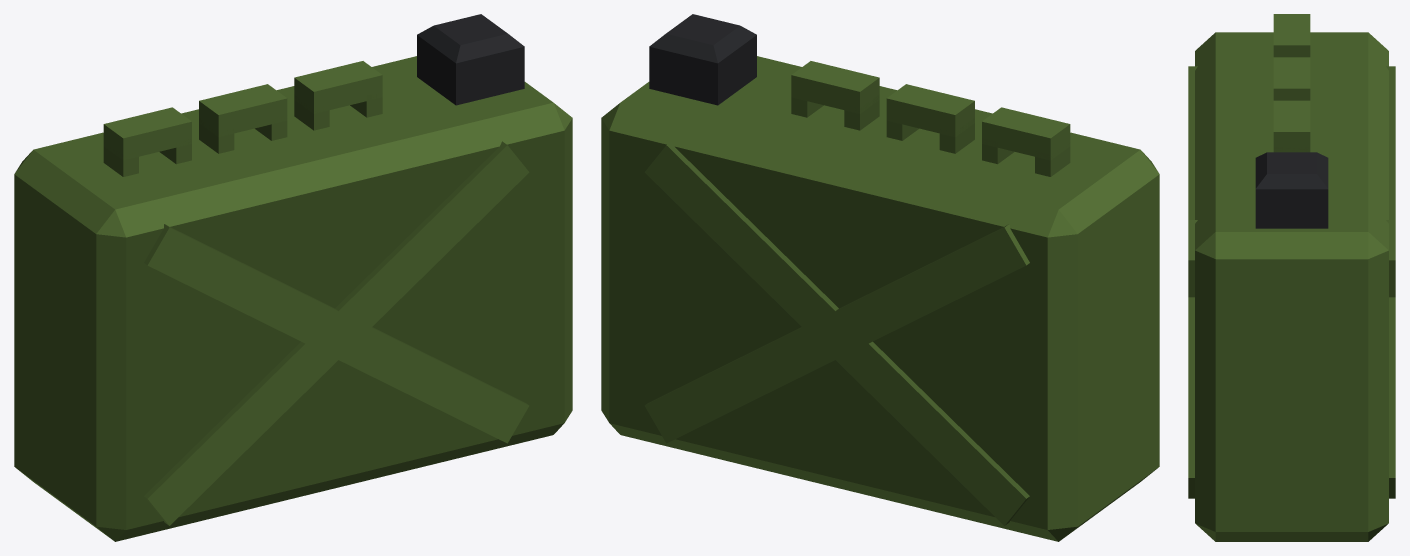
File: gear-jerrycan.glb
3 renders of one model, left to right at view 1: azimuth 30°, elevation 25°; view 2: azimuth 150°, elevation 25°; view 3: azimuth 270°, elevation 25°, orthographic. The views are drawn at different scales.
Parts seen in each view (by area): view 1: JerryCan; view 2: JerryCan; view 3: JerryCan.
Part boxes in pixels (x1=…): JerryCan: x1=14, y1=14, x2=572, y2=541; JerryCan: x1=601, y1=14, x2=1159, y2=541; JerryCan: x1=1188, y1=14, x2=1395, y2=541.
Size of the model in its own units: 0.45 by 0.348 by 0.182.
